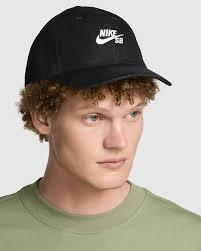cap: (22, 4, 178, 96)
